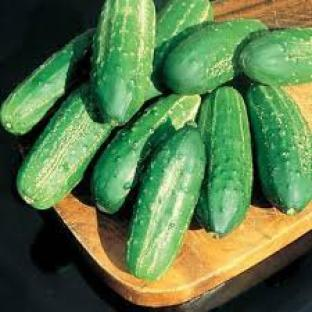Cucumber: (92, 95, 201, 213), (127, 127, 205, 280), (17, 85, 112, 209), (0, 30, 92, 134), (247, 85, 311, 214), (197, 88, 252, 237), (164, 20, 266, 94), (240, 28, 311, 85)
